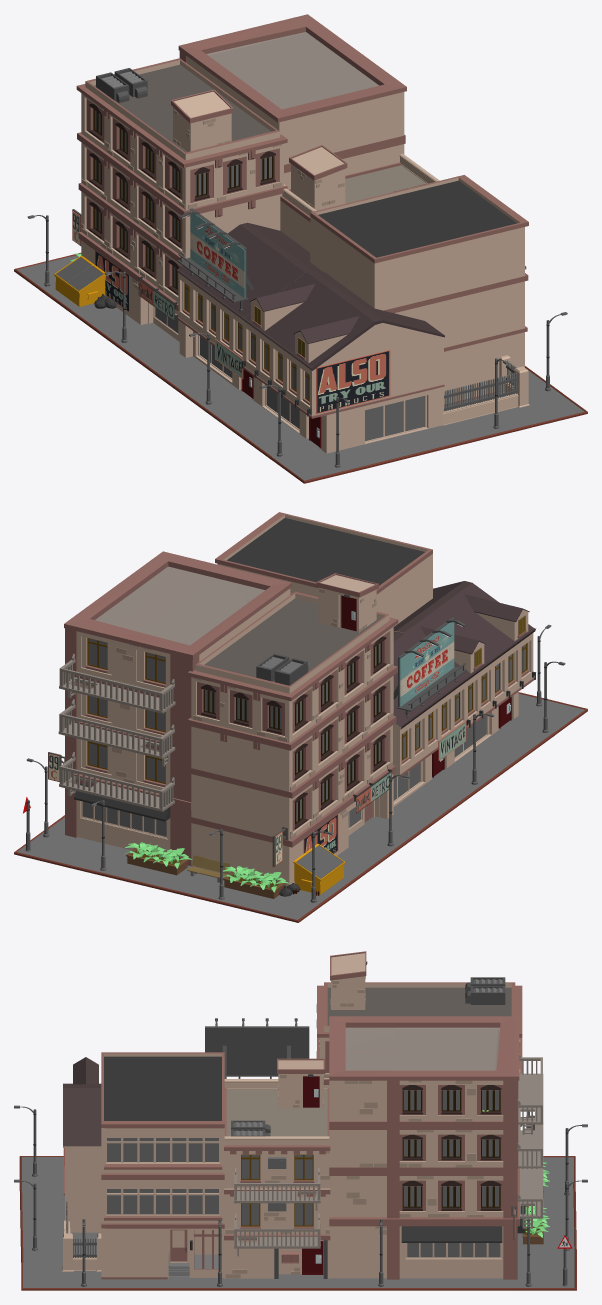
3 renders of one model, top to bottom at view 1: azimuth 30°, elevation 25°; view 2: azimuth 150°, elevation 25°; view 3: azimuth 270°, elevation 25°, orthographic. The views are drawn at different scales.
Parts seen in each view (by area): view 1: Cube.002, house_prefab_2.002, house_prefab_3.002, Cube.001, house_prefab_3.001, Cube.006, Cube.010, Cube.021, house_prefab_4.001, house_roof_prefab.001, house_roof_prefab.002, Cube.012 (+5 smaller); view 2: Cube.002, Cube.001, house_prefab_2.002, house_prefab_3.002, Cube.006, house_prefab_3.001, Cube.009, Cube.021, house_roof_prefab.001, Cube.004, Cube.020, Cube.007 (+5 smaller); view 3: Cube.001, house_prefab_2.002, house_prefab_4.001, Cube.002, house_prefab_3.002, Cube.003, Cube.021, Cube.010, Cube.009, house_roof_prefab.002, house_roof_prefab.001, Cube.004 (+7 smaller).
Part boxes in pixels (x1,y1,x2,y2): Cube.002: [76, 58, 287, 357]; house_prefab_2.002: [310, 175, 528, 406]; house_prefab_3.002: [241, 270, 444, 453]; Cube.001: [178, 14, 406, 189]; house_prefab_3.001: [176, 222, 323, 403]; Cube.006: [39, 287, 317, 459]; Cube.010: [339, 409, 531, 469]; Cube.021: [177, 208, 253, 311]; house_prefab_4.001: [280, 162, 426, 252]; house_roof_prefab.001: [171, 89, 233, 151]; house_roof_prefab.002: [289, 145, 347, 210]; Cube.012: [442, 373, 518, 425]; Cube.002: [187, 591, 398, 886]; Cube.001: [58, 551, 291, 865]; house_prefab_2.002: [215, 512, 432, 626]; house_prefab_3.002: [393, 581, 535, 764]; Cube.006: [321, 722, 555, 903]; house_prefab_3.001: [393, 631, 467, 806]; Cube.009: [70, 843, 257, 909]; Cube.021: [393, 617, 466, 717]; house_roof_prefab.001: [316, 573, 378, 632]; Cube.004: [14, 829, 101, 867]; Cube.020: [293, 843, 345, 894]; Cube.007: [508, 695, 587, 734]; Cube.001: [329, 1016, 543, 1279]; house_prefab_2.002: [101, 1052, 224, 1279]; house_prefab_4.001: [224, 1088, 330, 1278]; Cube.002: [316, 977, 522, 1084]; house_prefab_3.002: [63, 1057, 101, 1232]; Cube.003: [70, 1271, 513, 1290]; Cube.021: [205, 1018, 309, 1078]; Cube.010: [19, 1182, 82, 1262]; Cube.009: [517, 1182, 576, 1262]; house_roof_prefab.002: [277, 1058, 325, 1108]; house_roof_prefab.001: [330, 951, 367, 1009]; Cube.004: [513, 1261, 576, 1290].
Bounding box in the file's own units: 23.69 × 17.84 × 40.23.
Materials: 33 (4 with a texture image).
